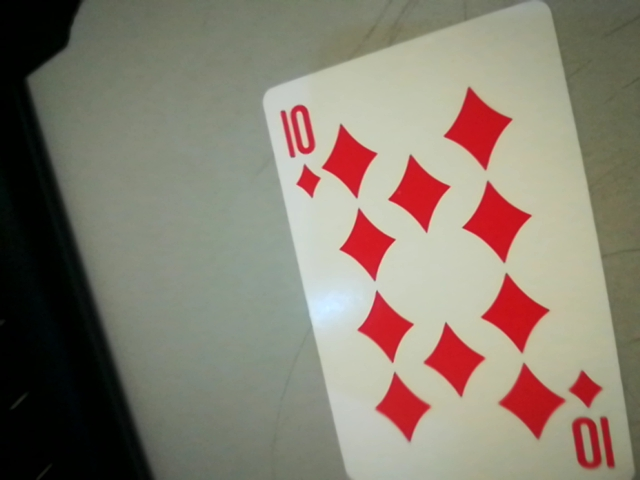fk 10: (267, 95, 327, 204)
